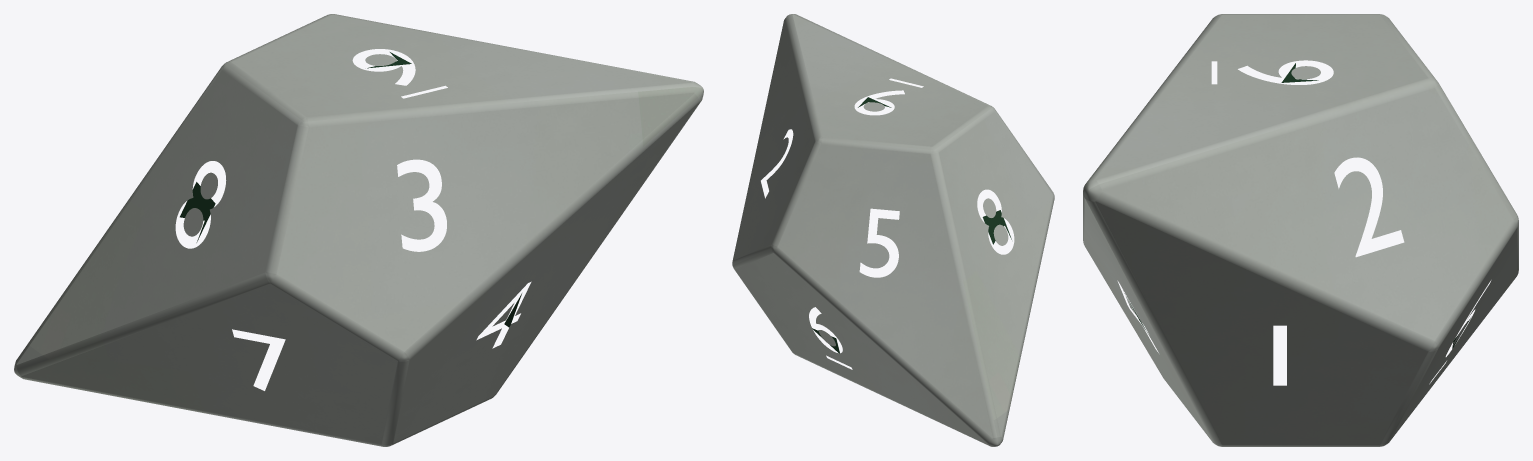
3 views of the same model, side by side, from view 1: azimuth 30°, elevation 25°; view 2: azimuth 150°, elevation 25°; view 3: azimuth 270°, elevation 25° (orthographic). The views are drawn at different scales.
Visible parts, largest first — view 1: Jade D10; view 2: Jade D10; view 3: Jade D10.
Boxes of the visible parts, bbox=[...] form: Jade D10: bbox=[14, 14, 703, 446]; Jade D10: bbox=[732, 14, 1054, 446]; Jade D10: bbox=[1083, 14, 1518, 446].
Bounding box in the file's own units: 1.01 × 0.644 × 0.7487.
2 materials, 1 textured.
